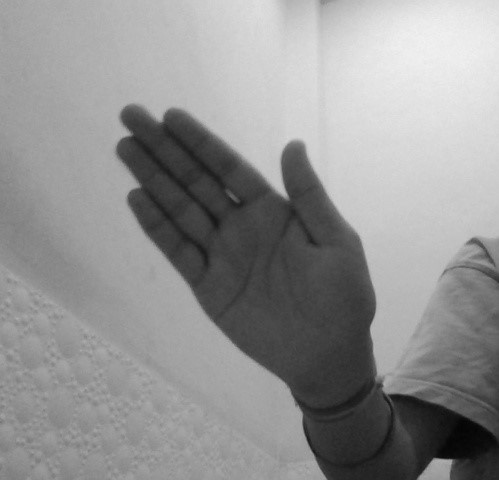Hello: (111, 102, 380, 387)
